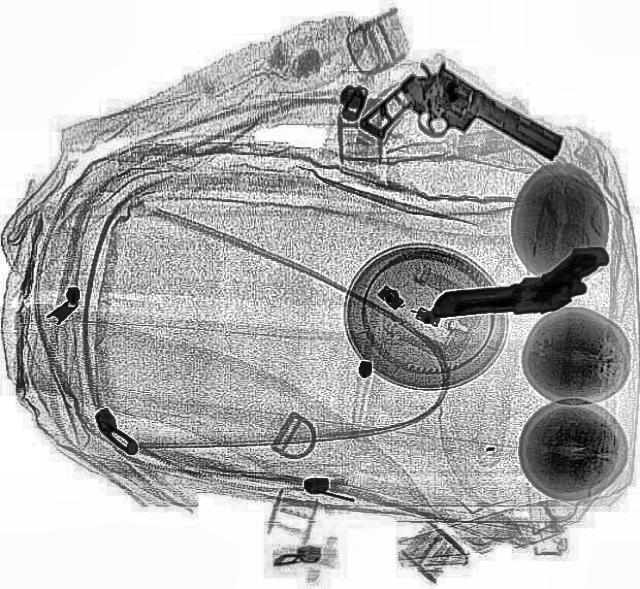Gun: (354, 46, 572, 214), (426, 245, 612, 320)
